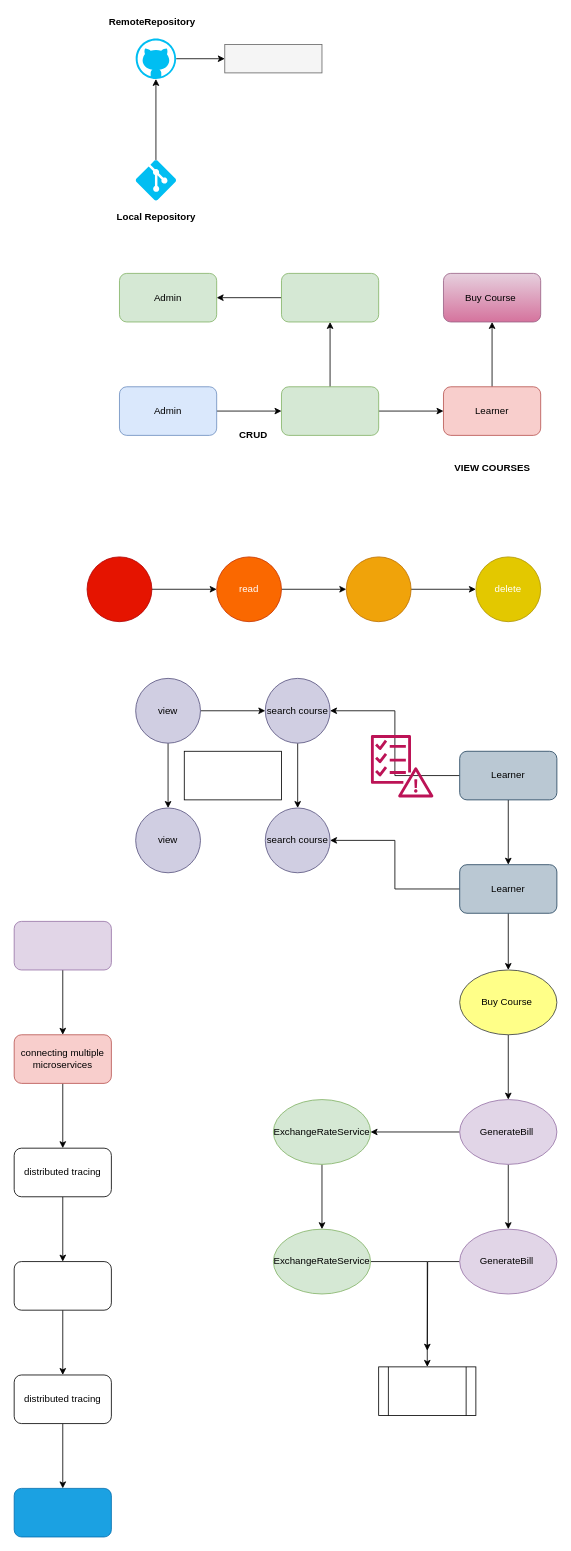
Some shapes in this 571 by 1551 pixel diagram are drawn without their labels. Each missing label, with the box of its shape:
Course: (281, 386, 379, 435)
create: (86, 556, 152, 622)
Eureka Instance: (183, 750, 281, 800)
External Configuration: (378, 1366, 476, 1415)
externalized configuration: (13, 1488, 111, 1537)
manage faults: (13, 1261, 111, 1310)
Product: (281, 273, 379, 322)
Register Microservices: (13, 921, 111, 970)
Repository: (224, 44, 322, 73)
update: (345, 556, 411, 622)
